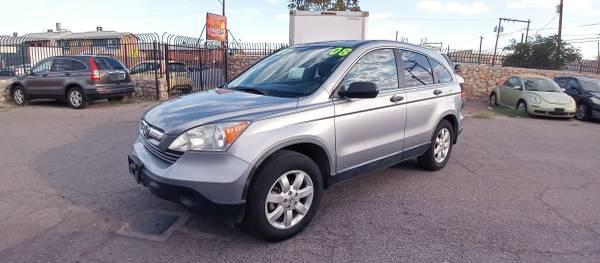Front_Bumper: (126, 135, 255, 224)
Front_Fender: (216, 88, 336, 179)
Front_Left_Door: (333, 88, 407, 179)
Front_Left_Window: (331, 49, 405, 99)
Front_Windshield: (221, 47, 351, 102)
Grille: (138, 117, 180, 150)
Hood: (145, 83, 298, 132)
Left_Headlight: (162, 120, 248, 154)
Rear_Fender: (433, 57, 463, 126)
Rear_Left_Window: (397, 50, 443, 88)
Rear_Right_Door: (403, 84, 444, 160)
Roof: (292, 39, 456, 97)
Wheel: (248, 148, 328, 242), (421, 120, 457, 172)
